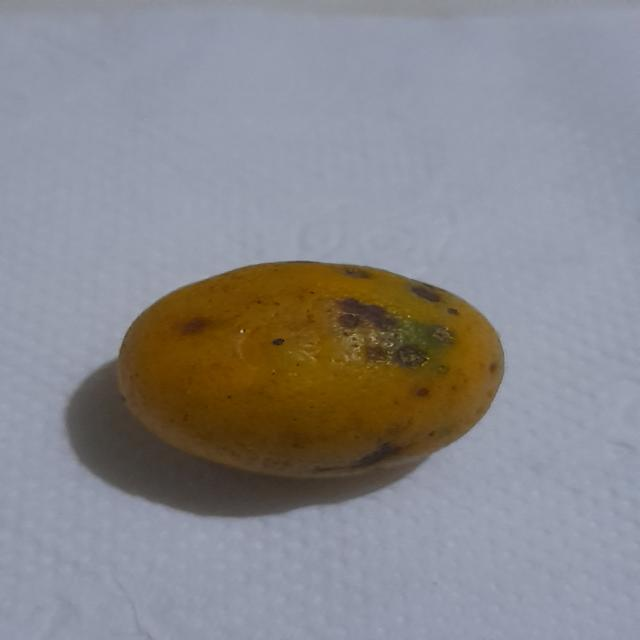black spot: (112, 258, 511, 486)
